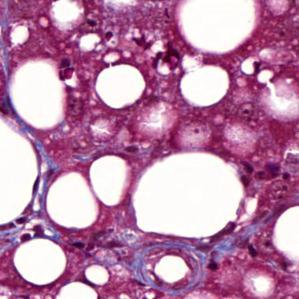steatosis: (13, 238, 67, 286), (86, 264, 109, 287)
